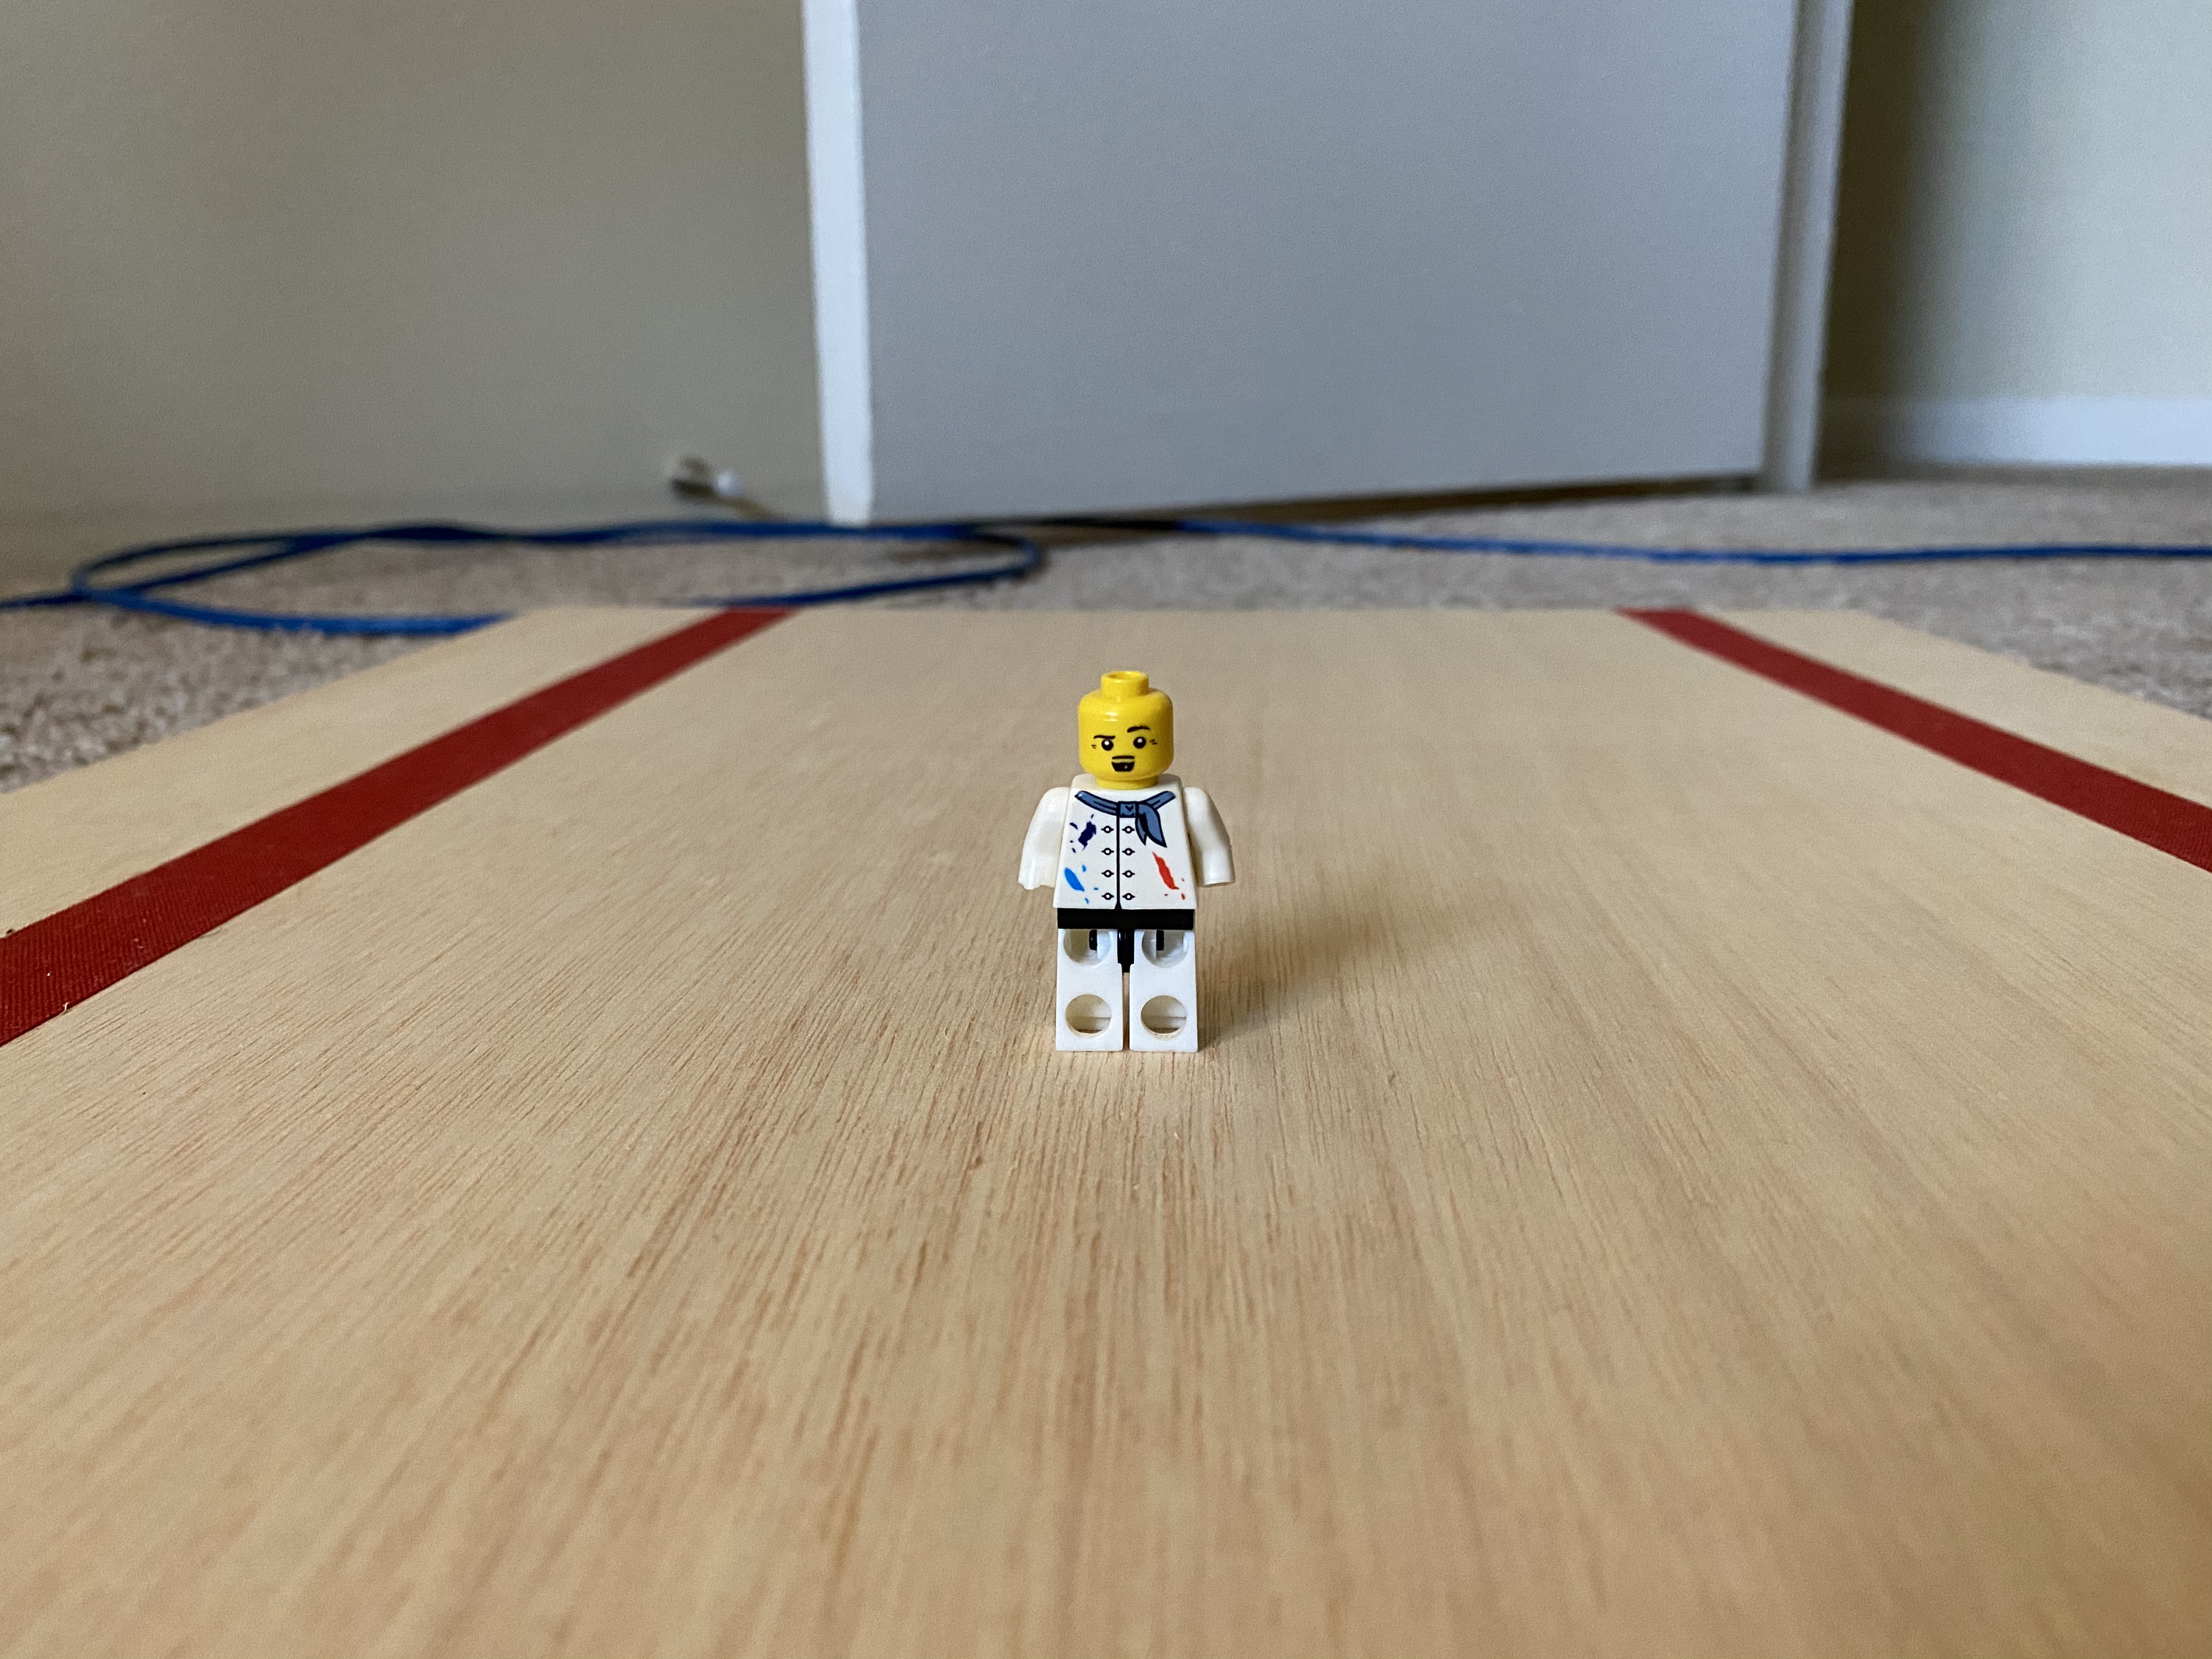Person: (992, 646, 1261, 1085)
